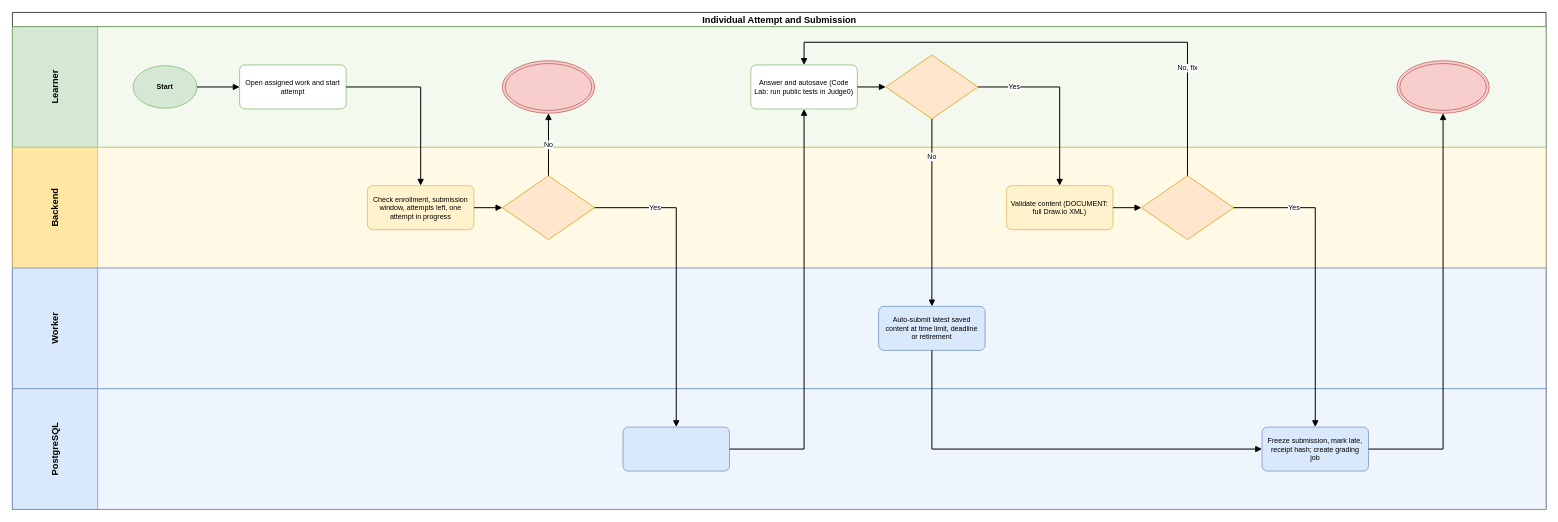
This 1558x522 diagram has some shape labels left out. The centre of each missing label's shape, as x and y in pixels:
"Allowed?" goes at (548,207).
"Create IN_PROGRESS attempt with snapshot, deadline and auto-submit job" goes at (676,448).
"End Attempt refused" goes at (548,86).
"End Submission recorded, receipt shown" goes at (1442,86).
"Submit before deadline?" goes at (931,86).
"Valid?" goes at (1187,207).
